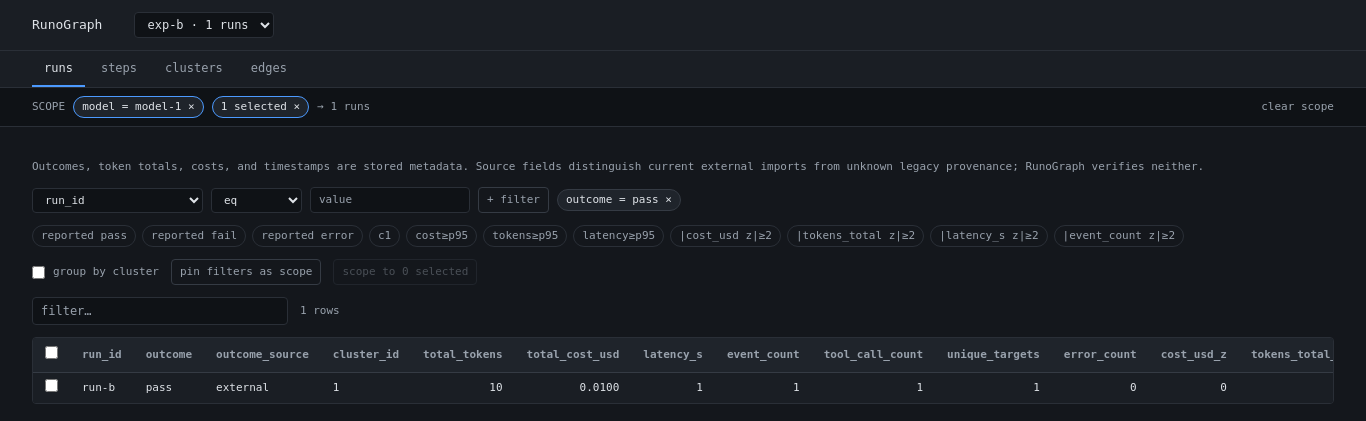
Workbench mounted URL lifecycle › clears incompatible local and pinned scope when switching experiment
The width and height of the screenshot is (1366, 421).
Check: the text "run-b" is shown, box [70,372,134,403]
Select "exp-a · 1 runs" in the dropdown named "Experiment". click: (204, 25)
box: [134,12,274,38]
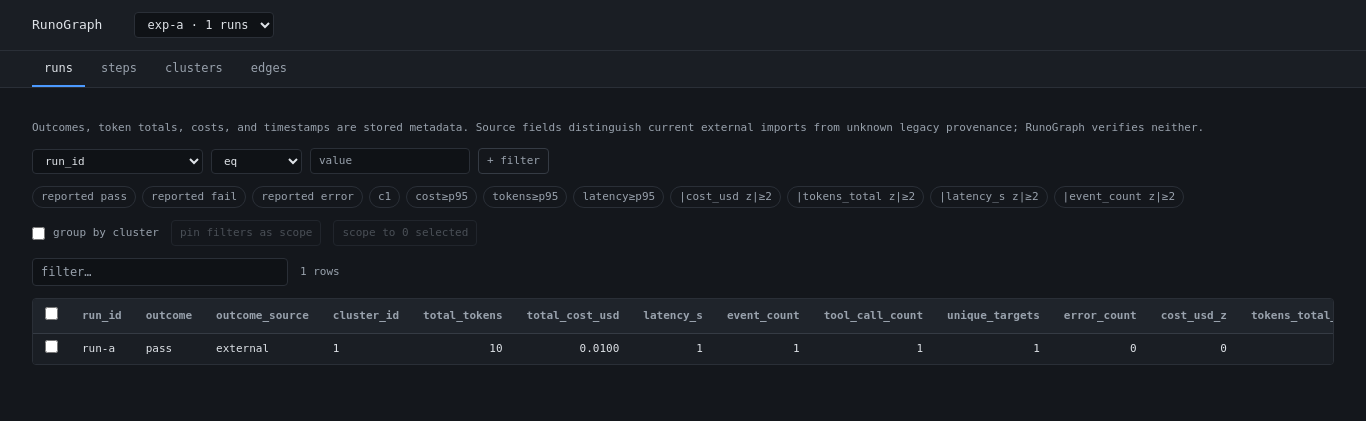
Check: the text "run-a" is shown, box [70,334,134,364]
